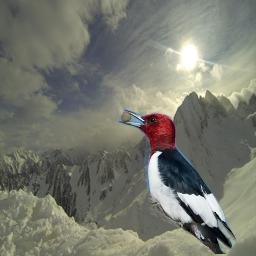Woodpecker: (117, 106, 239, 254)
